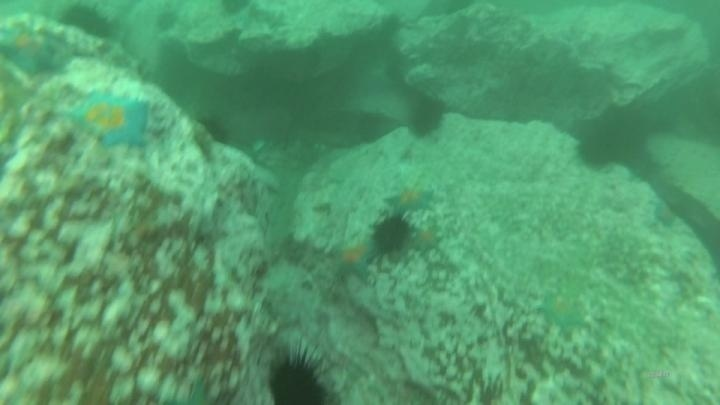echinus: (263, 345, 335, 405), (57, 2, 117, 43), (405, 95, 448, 140), (575, 129, 621, 171), (370, 213, 413, 256), (195, 112, 234, 148), (153, 8, 181, 35), (217, 1, 253, 19)
holothurian: (249, 135, 326, 174)
starfish: (65, 88, 154, 152), (1, 23, 62, 80), (536, 290, 589, 334), (330, 237, 379, 281), (383, 181, 437, 216), (409, 223, 444, 255), (650, 198, 679, 230)
